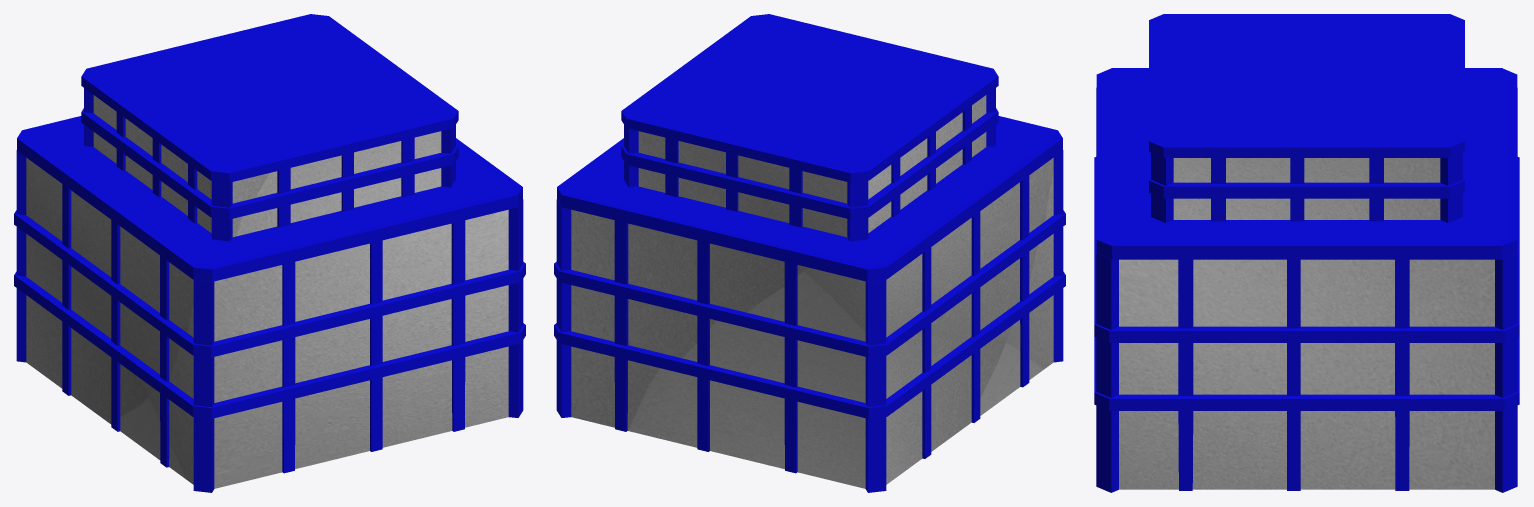
File: building1.fbx
3 renders of one model, left to right at view 1: azimuth 30°, elevation 25°; view 2: azimuth 150°, elevation 25°; view 3: azimuth 270°, elevation 25°, orthographic. The views are drawn at different scales.
Parts seen in each view (by area): view 1: pCube1; view 2: pCube1; view 3: pCube1.
Boxes of the visible parts, box(x1,y1,x2,y2) form: pCube1: box(14, 14, 525, 492); pCube1: box(554, 14, 1065, 492); pCube1: box(1094, 14, 1519, 492).
Bounding box in the file's own units: 77.32 × 64.84 × 77.32.
2 materials, 1 textured.
